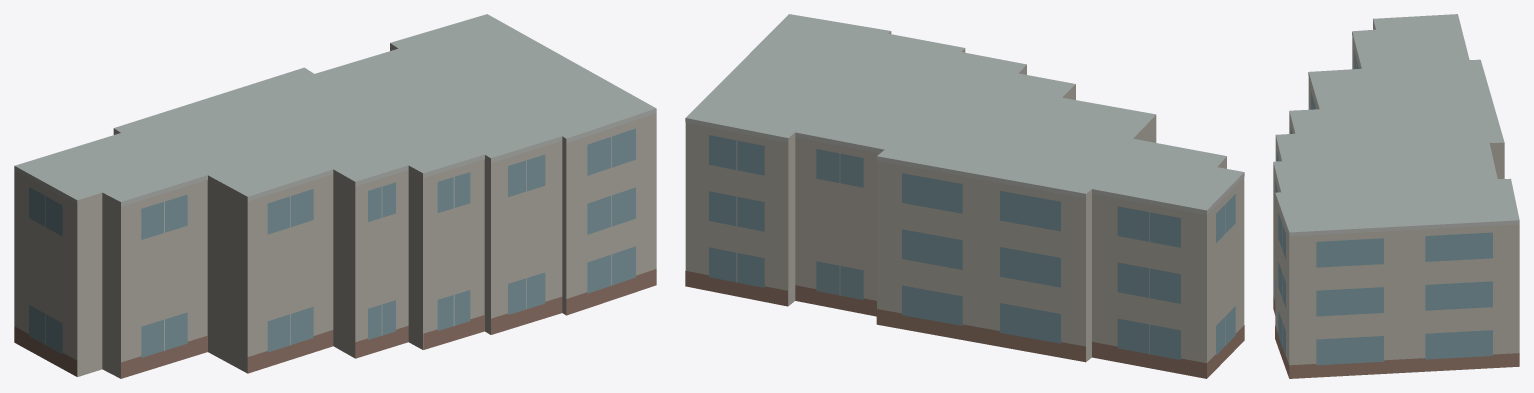
File: survey-upis-32634444.glb
3 renders of one model, left to right at view 1: azimuth 30°, elevation 25°; view 2: azimuth 150°, elevation 25°; view 3: azimuth 270°, elevation 25°, orthographic. The views are drawn at different scales.
Visible parts, largest first — view 1: survey-upis-32634444.tmp; view 2: survey-upis-32634444.tmp; view 3: survey-upis-32634444.tmp.
Part boxes in pixels (box(x1,y1,x2,y2)): survey-upis-32634444.tmp: box(14, 14, 656, 378); survey-upis-32634444.tmp: box(685, 14, 1244, 378); survey-upis-32634444.tmp: box(1273, 14, 1519, 378).
Size of the model in its own units: 29.27 by 9.15 by 13.96.
